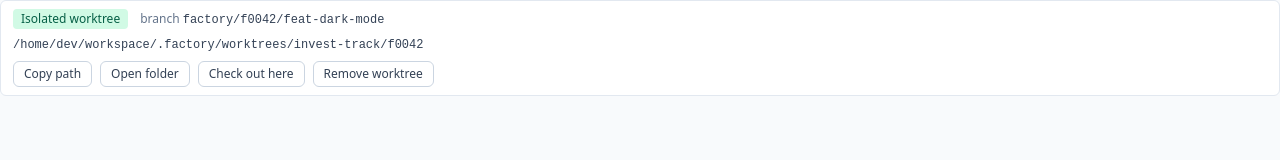
where a task works - on the run screen › says why the folder could not be opened
The width and height of the screenshot is (1280, 160).
Click the button "Open folder": x=145, y=74 [100,61,190,87]
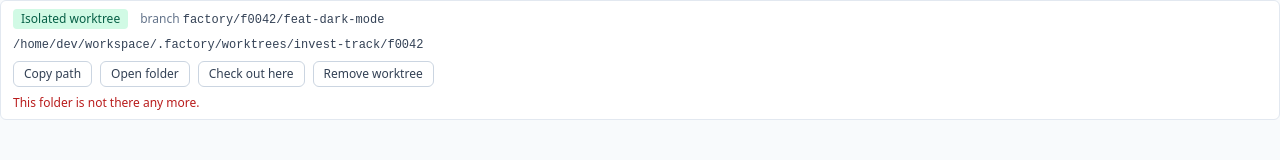
Expected: the message reads "This folder is not there any more.", [13,94,200,111]
